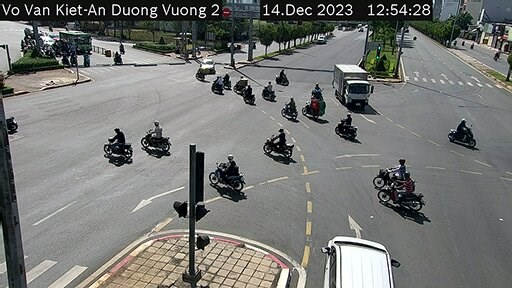car: (310, 222, 406, 288), (193, 57, 226, 80)
motorbike: (376, 176, 429, 212), (96, 129, 136, 172), (210, 153, 249, 192), (368, 159, 420, 187), (264, 126, 297, 164), (444, 119, 480, 149), (140, 122, 169, 155), (331, 118, 358, 146), (258, 81, 282, 104), (279, 93, 296, 124), (268, 66, 291, 88), (207, 77, 231, 91), (242, 91, 263, 107)
truck: (330, 58, 385, 106)
